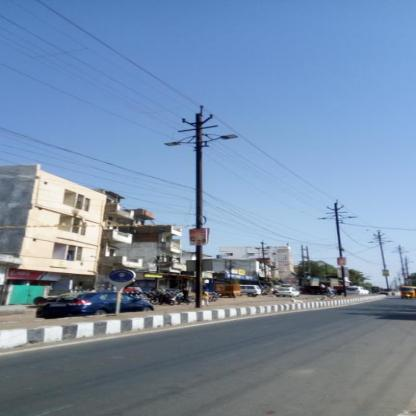Electrical Pole: (158, 101, 246, 309)
